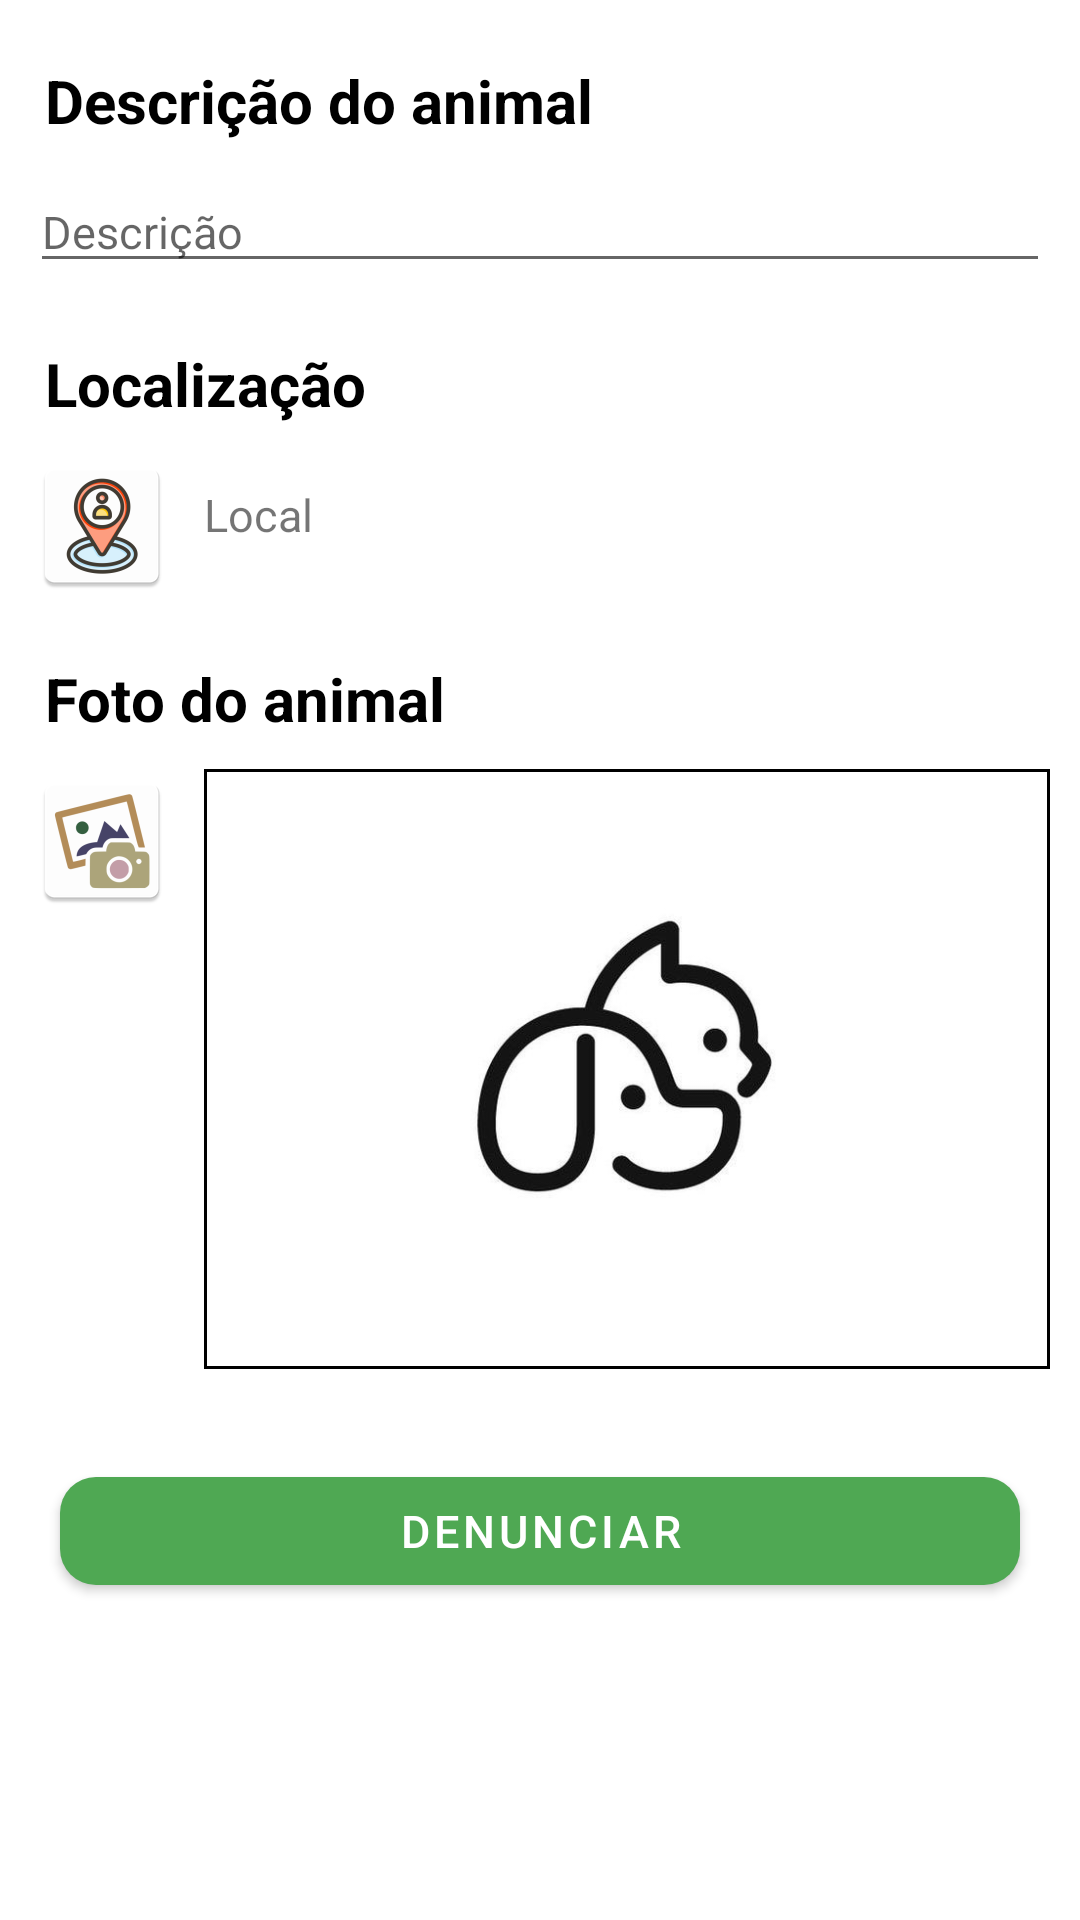

Screen size 1080w x 1920h. Icon name, then its center in pixels as point (x, y):
location: point (102, 531)
photo camera: point (102, 846)
